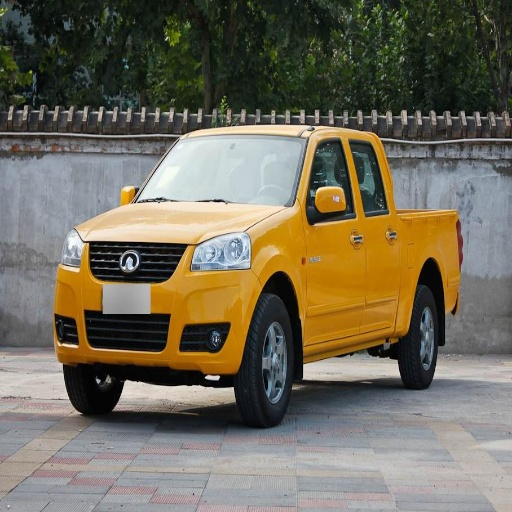front_bumper: (54, 241, 261, 369)
front_glass: (132, 136, 307, 205)
front_left_door: (303, 135, 366, 342)
trunk: (398, 211, 457, 322)
